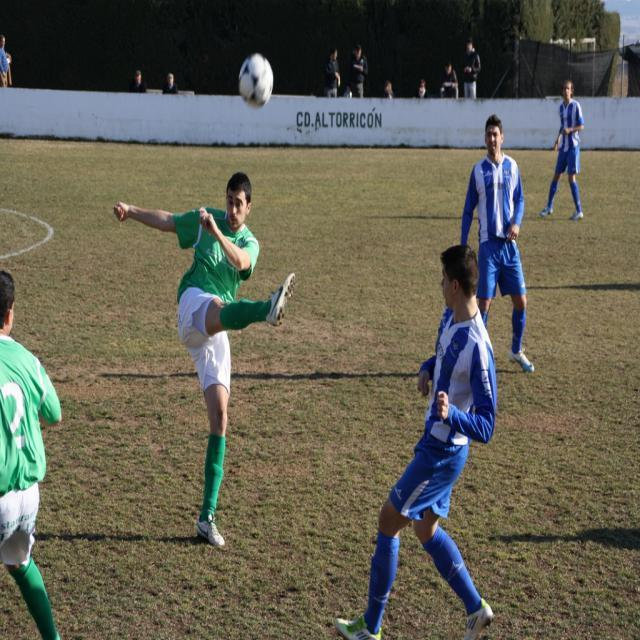football: (222, 37, 288, 123)
